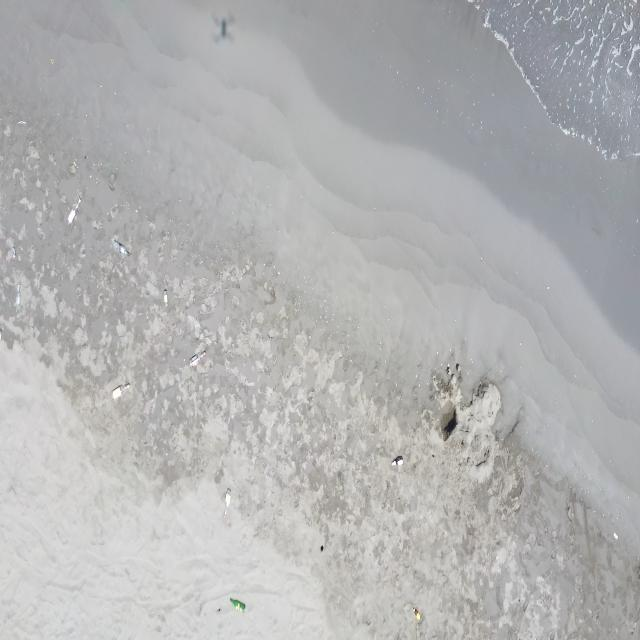glass: (68, 197, 82, 224), (112, 383, 130, 400), (190, 351, 207, 368), (112, 240, 130, 256), (230, 598, 246, 614), (223, 488, 231, 520), (391, 458, 404, 467), (163, 289, 169, 308), (413, 608, 421, 621)
